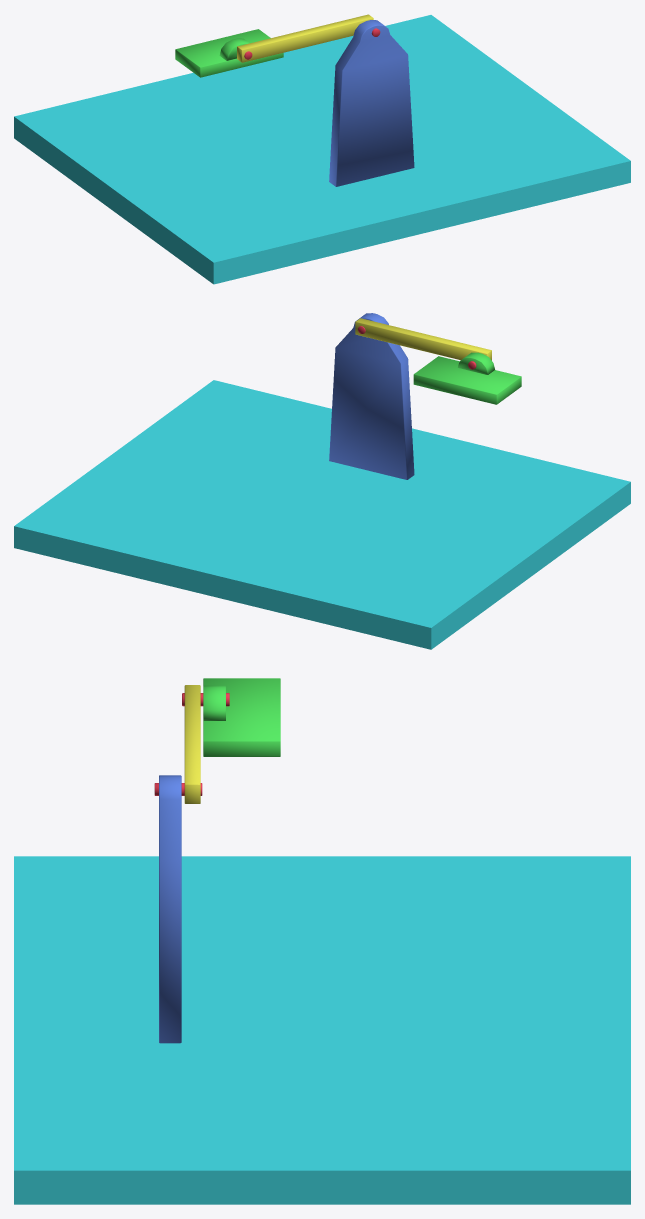
Rendered from hinge-test.glb.
3 renders of one model, top to bottom at view 1: azimuth 30°, elevation 25°; view 2: azimuth 150°, elevation 25°; view 3: azimuth 270°, elevation 25°, orthographic. The views are drawn at different scales.
Visible parts, largest first — view 1: floor, base, platform, arm; view 2: floor, base, platform, arm; view 3: floor, base, platform, arm.
Part boxes in pixels (x1,y1,x2,y2): floor: (14,15,630,284); base: (329,20,414,186); platform: (175,29,283,77); arm: (237,14,373,62); floor: (14,380,630,649); base: (329,313,414,479); platform: (413,352,521,404); arm: (355,318,491,360); floor: (14,856,630,1204); base: (159,775,181,1043); platform: (203,678,280,756); arm: (184,685,200,803).
Bounding box in the file's own units: 9.99 × 3.97 × 8.28.
